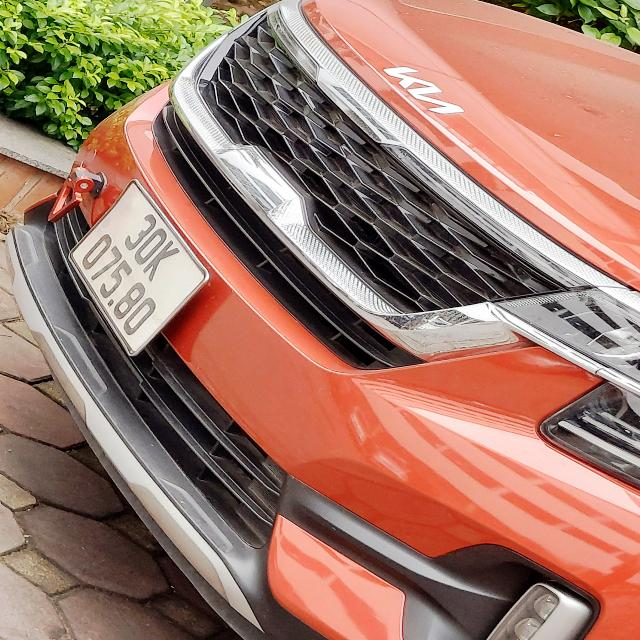license_plate: (71, 180, 211, 356)
